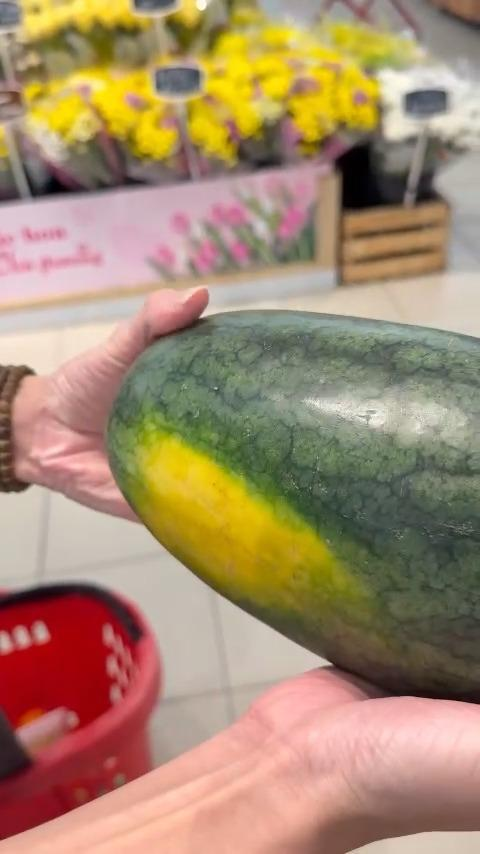watermelon: (93, 295, 480, 700)
